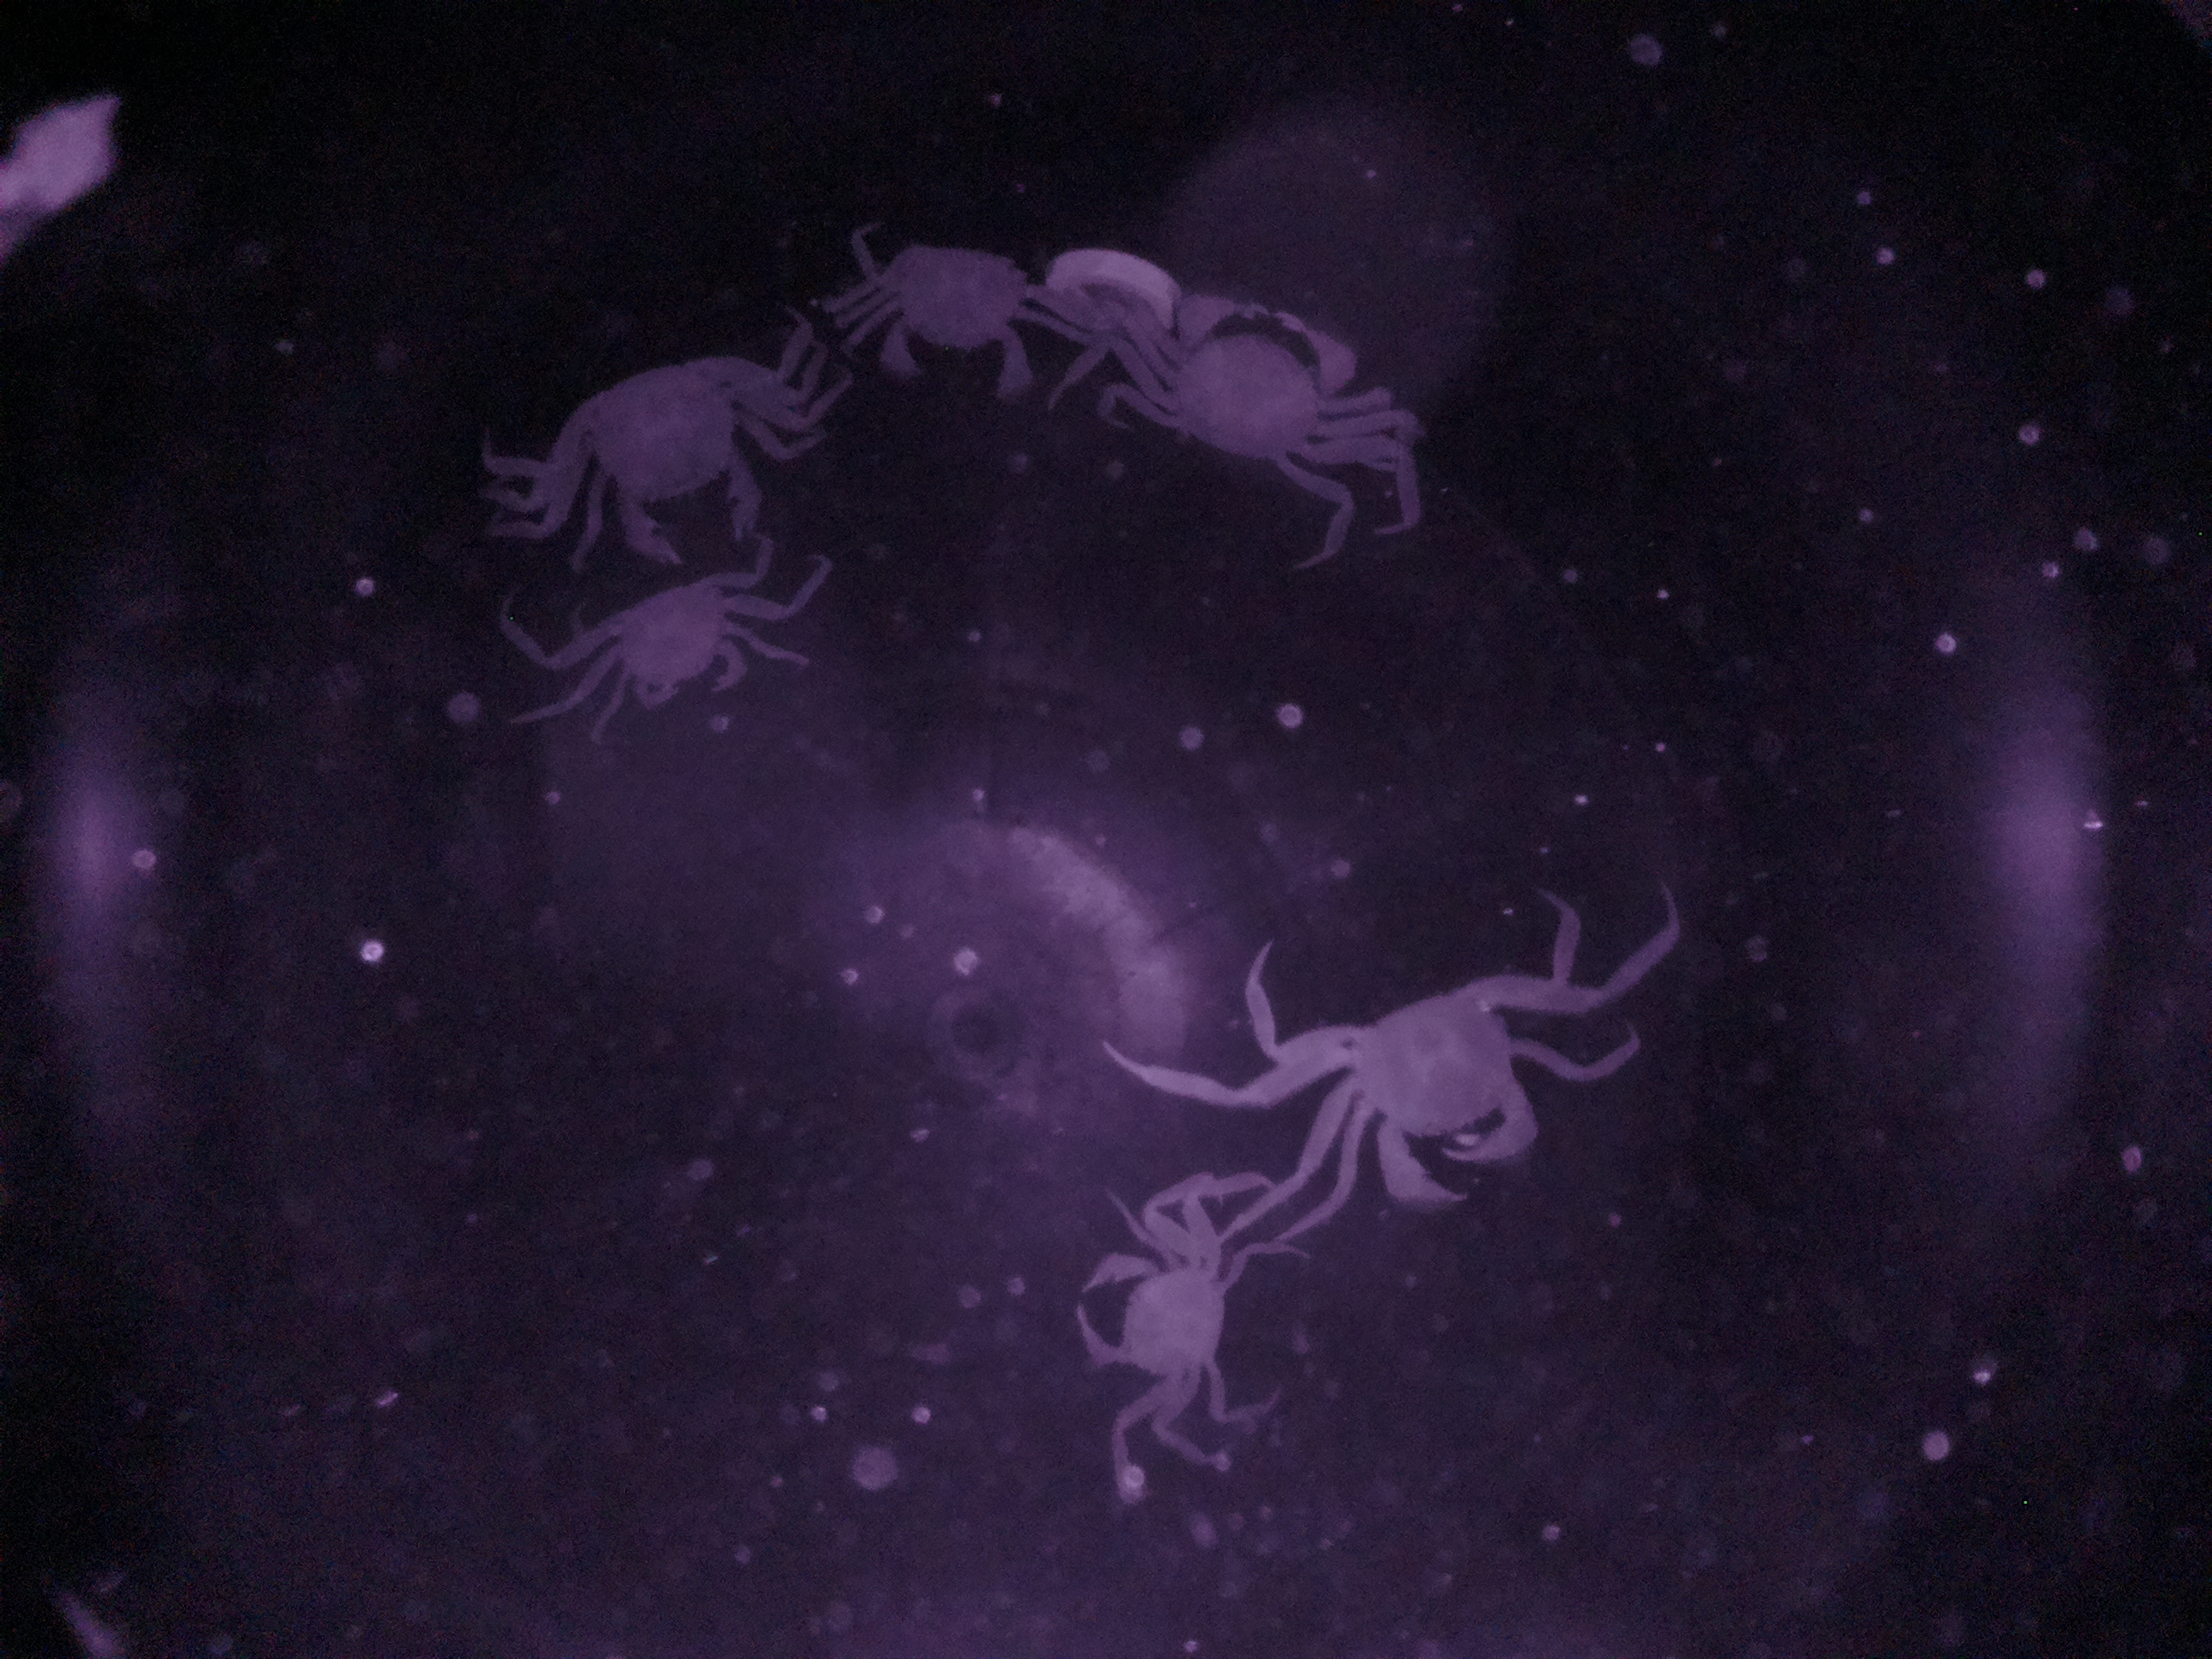Crab: (1296, 962, 1564, 1211), (1125, 279, 1379, 490), (547, 349, 806, 544), (1061, 1211, 1254, 1406), (860, 227, 1045, 406), (594, 563, 773, 713)
